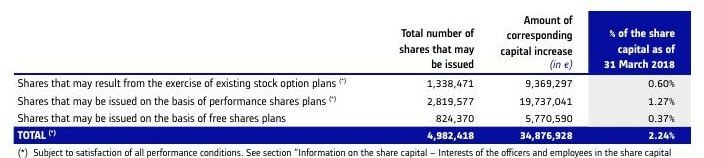table: (0, 0, 704, 158)
